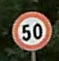limite 50: (10, 10, 52, 50)
